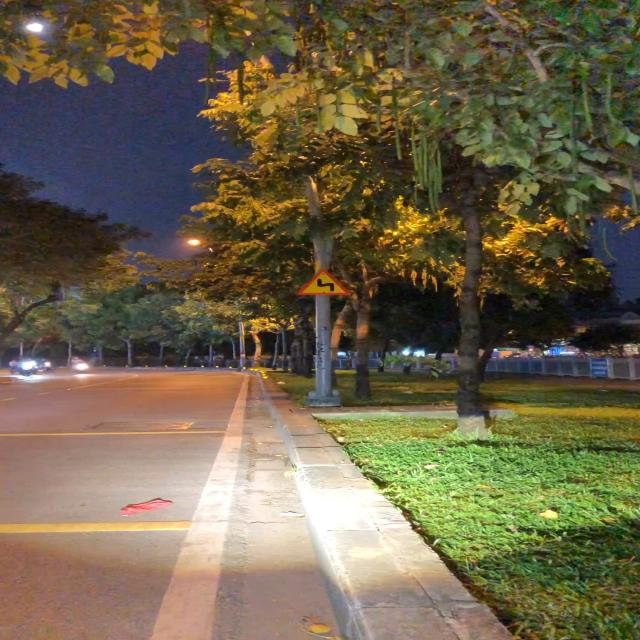Bien bao nhieu cho ngoat nguy hiem lien tiep: (295, 268, 353, 296)
